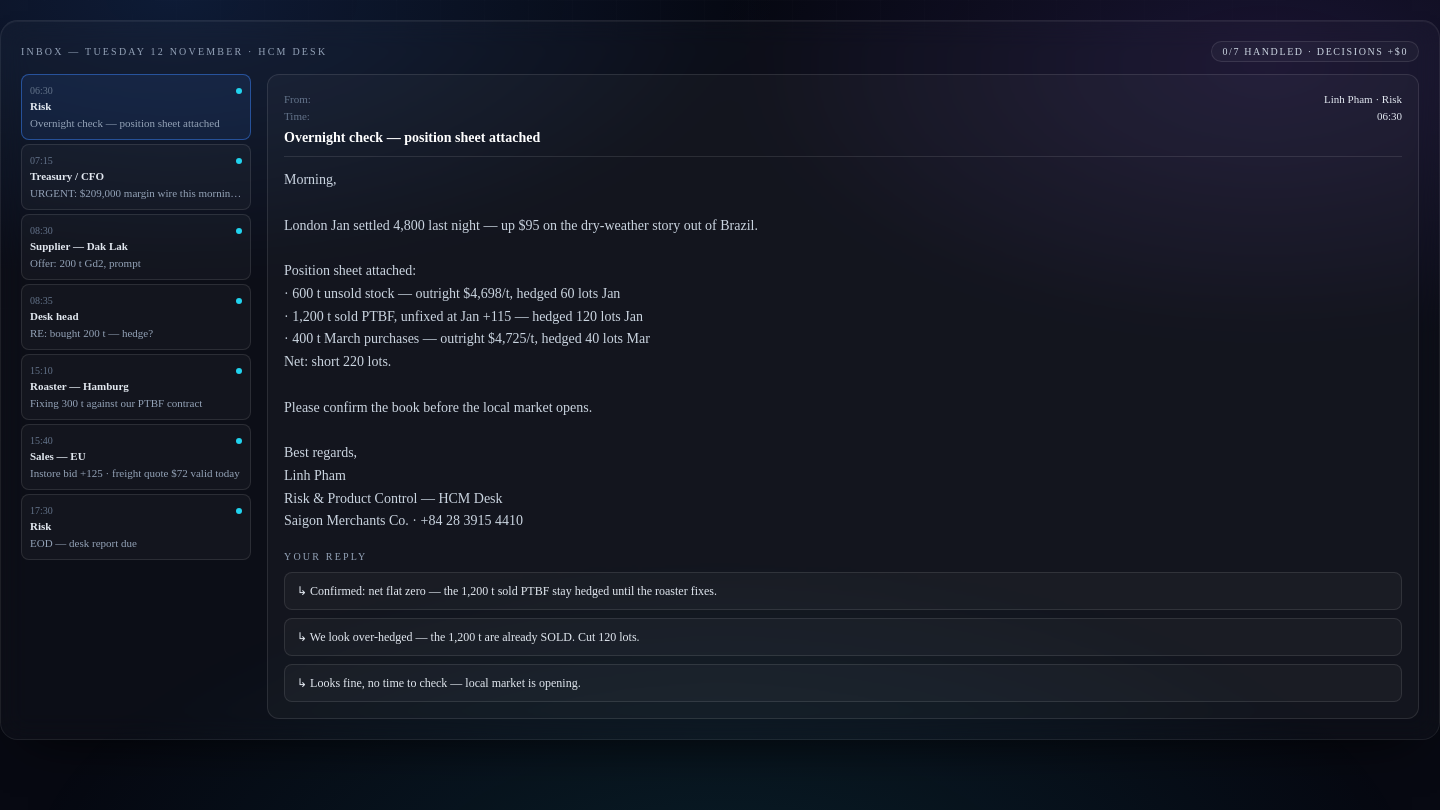
Test case: wrong replies cost money and show their feedback
// Cut the hedge on email 1 — the classic PTBF-unfixed mistake
Click the button "Cut 120 lots".
click(475, 637)  # box [284,618,1402,656]
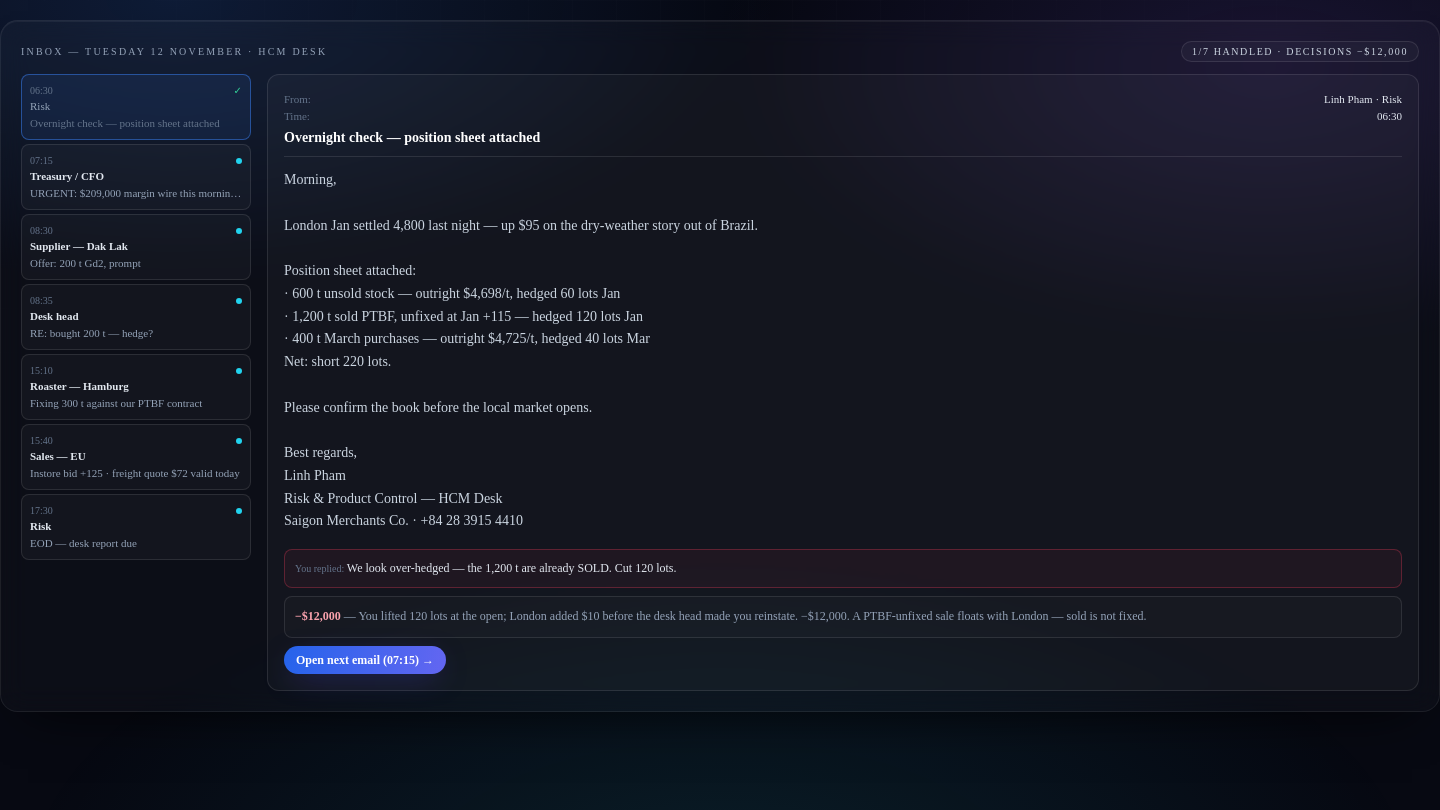
Expected: the text "−$12,000" is shown, [1357,46,1408,57]
Expected: the text "sold is not fixed" is shown, [358,609,1146,623]
Expected: the text "decisions −$12,000" is shown, [1181,41,1419,62]
